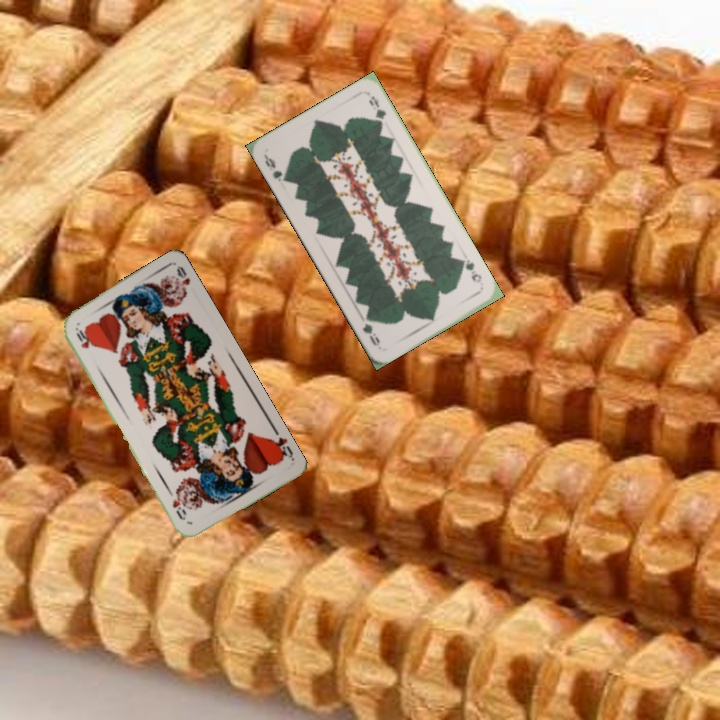G9: (260, 151, 291, 185), (456, 255, 484, 286)
HO: (266, 433, 296, 463), (71, 323, 92, 351)
